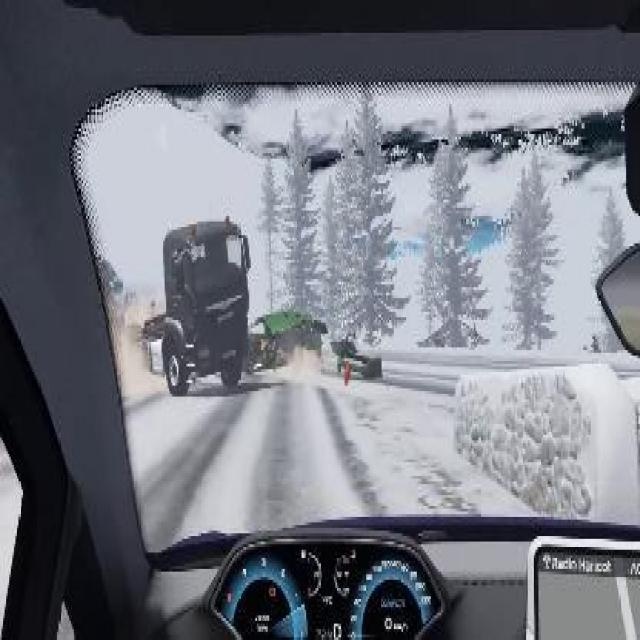accident: (126, 208, 326, 402)
